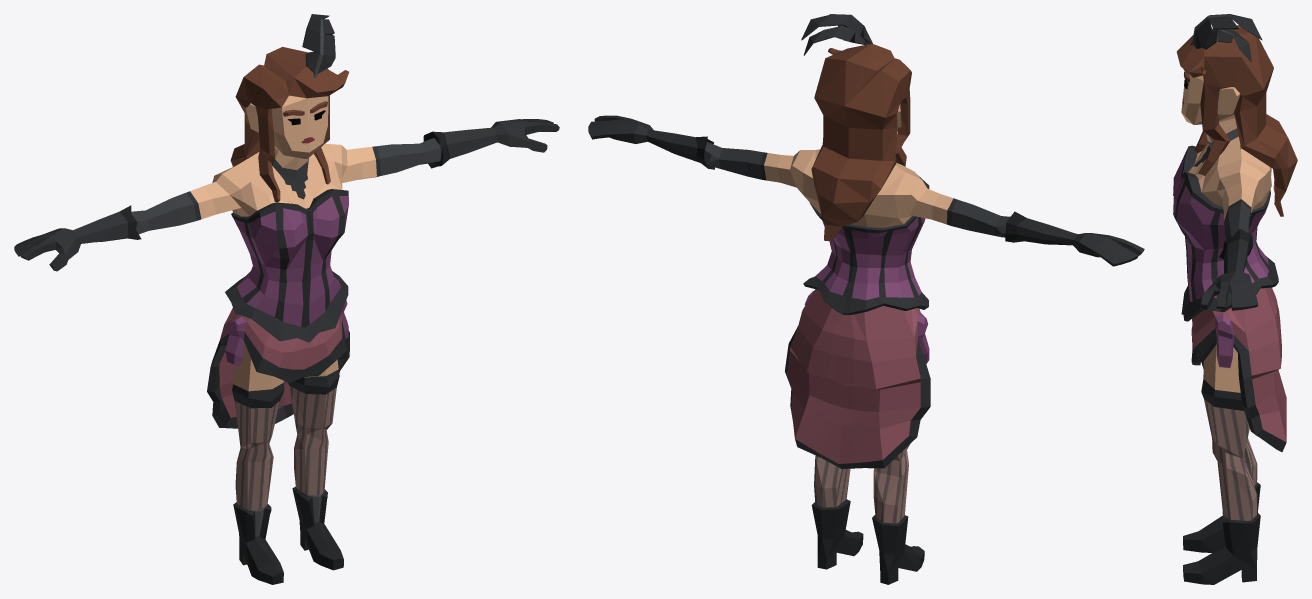
File: saloon_girl.fbx
3 views of the same model, side by side, from view 1: azimuth 30°, elevation 25°; view 2: azimuth 150°, elevation 25°; view 3: azimuth 270°, elevation 25° (orthographic). The views are drawn at different scales.
Parts seen in each view (by area): view 1: Character_SaloonGirl_01_6; view 2: Character_SaloonGirl_01_6; view 3: Character_SaloonGirl_01_6.
Part boxes in pixels (x1,y1,x2,y2): Character_SaloonGirl_01_6: [14, 14, 559, 584]; Character_SaloonGirl_01_6: [588, 14, 1144, 584]; Character_SaloonGirl_01_6: [1173, 14, 1297, 584].
Bounding box in the file's own units: 204 × 194 × 38.74.
